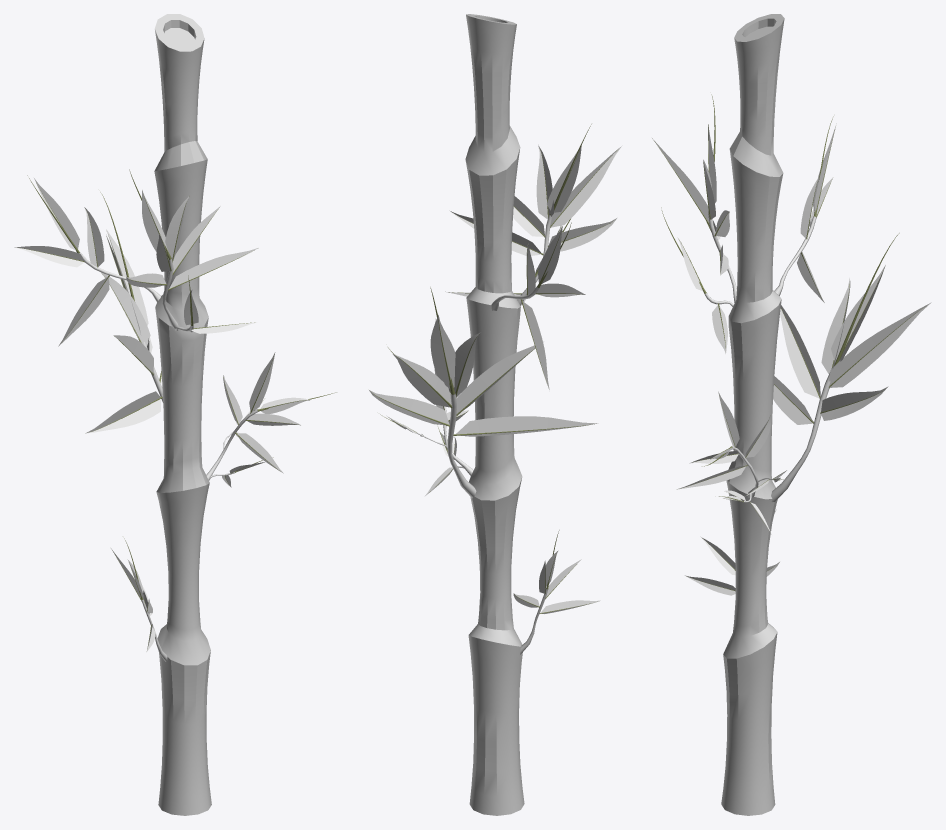
File: BambusLang1 (1).fbx
The picture shows the model from 3 angles, left to right: view 1: azimuth 30°, elevation 25°; view 2: azimuth 150°, elevation 25°; view 3: azimuth 270°, elevation 25°; orthographic projection. The views are drawn at different scales.
Parts seen in each view (by area): view 1: BambusSmallBranch1.026; view 2: BambusSmallBranch1.026; view 3: BambusSmallBranch1.026.
Boxes of the visible parts, x1,y1,x2,y2 form: BambusSmallBranch1.026: [14, 14, 336, 815]; BambusSmallBranch1.026: [369, 14, 622, 815]; BambusSmallBranch1.026: [652, 14, 931, 815].
Bounding box in the file's own units: 79.99 × 229 × 74.01.
